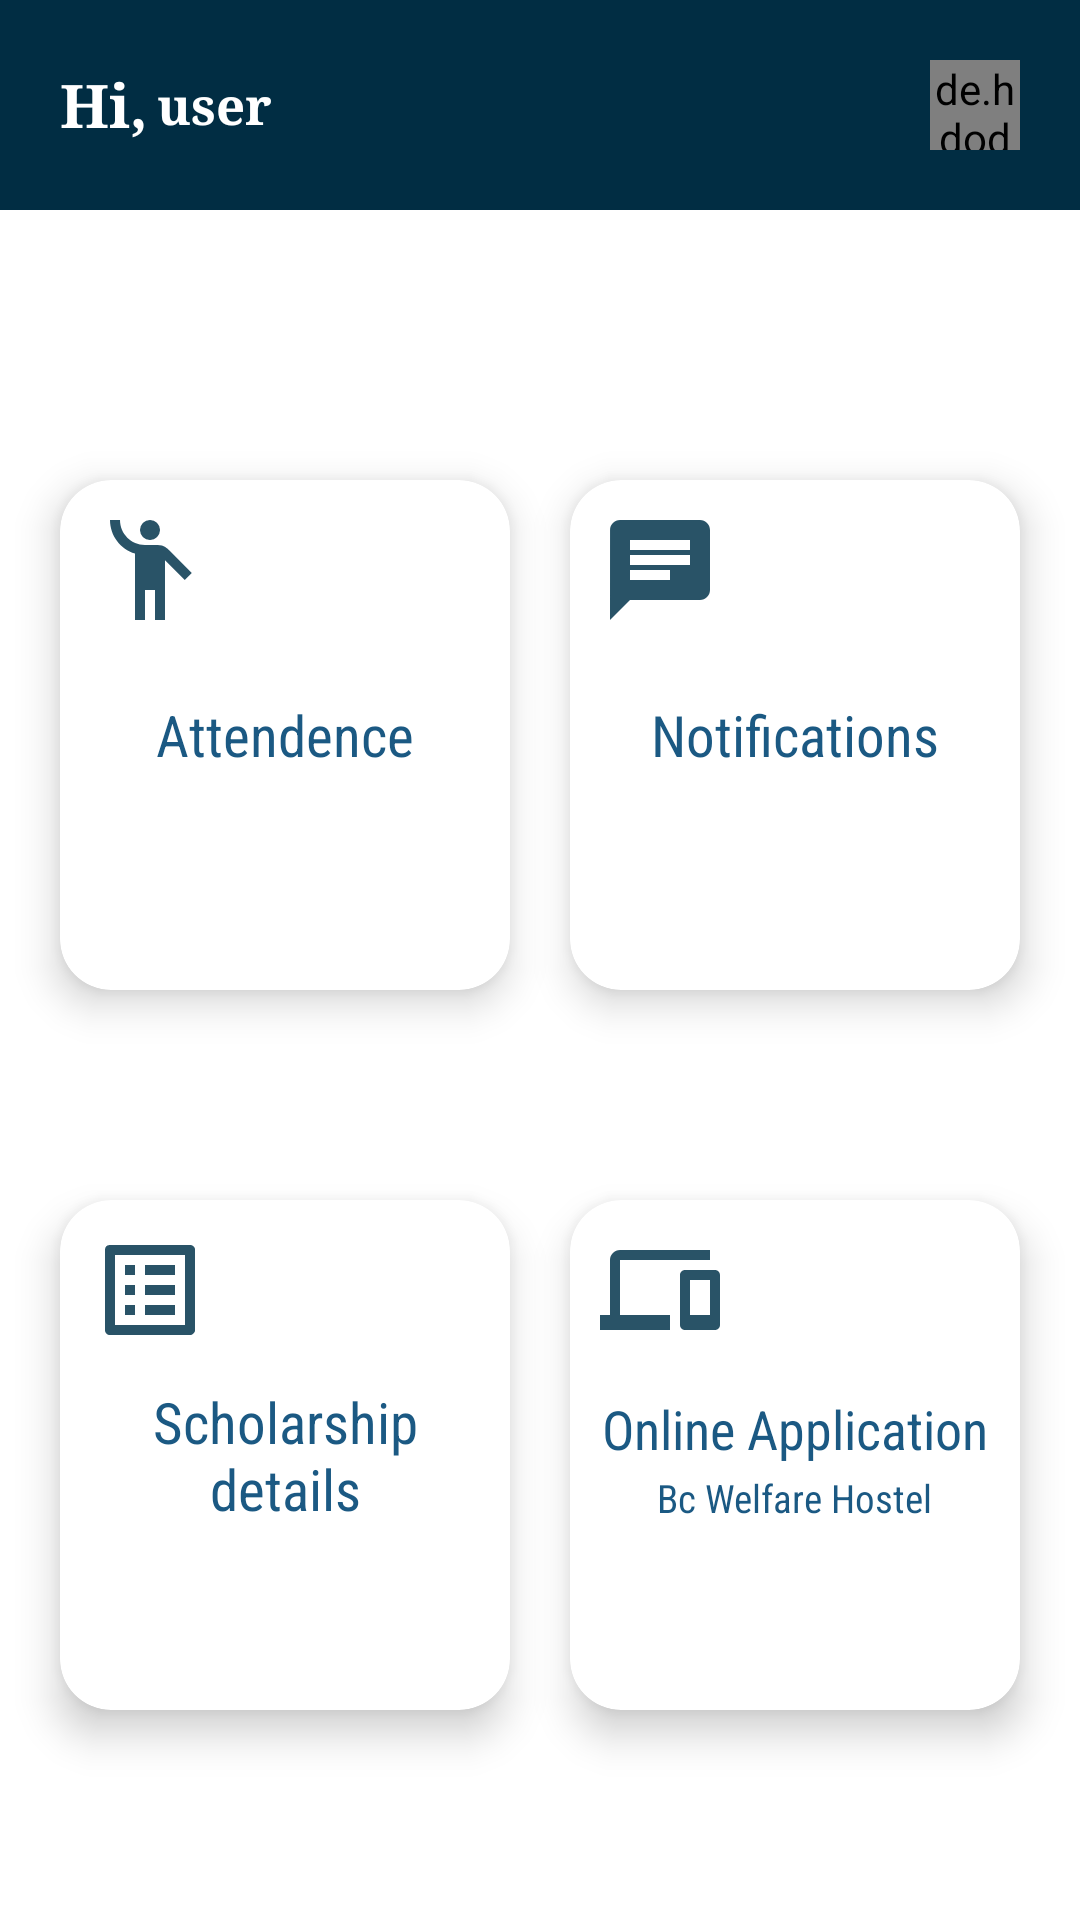

Icon click points for this 1080x1920 phone screenshot, format [x,y]:
chat notification: [660,570]
devices: [660,1290]
scholarship form: [150,1290]
